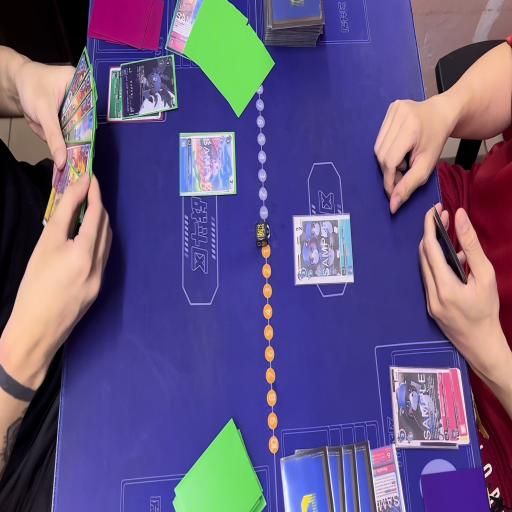card: (291, 208, 355, 292), (393, 367, 456, 449), (178, 130, 238, 200), (120, 54, 178, 119), (42, 156, 89, 230), (368, 446, 406, 512), (54, 43, 88, 116), (57, 61, 93, 124), (55, 85, 95, 138), (164, 0, 204, 52), (450, 366, 471, 443), (62, 105, 94, 147), (105, 61, 126, 123), (62, 142, 92, 185)
